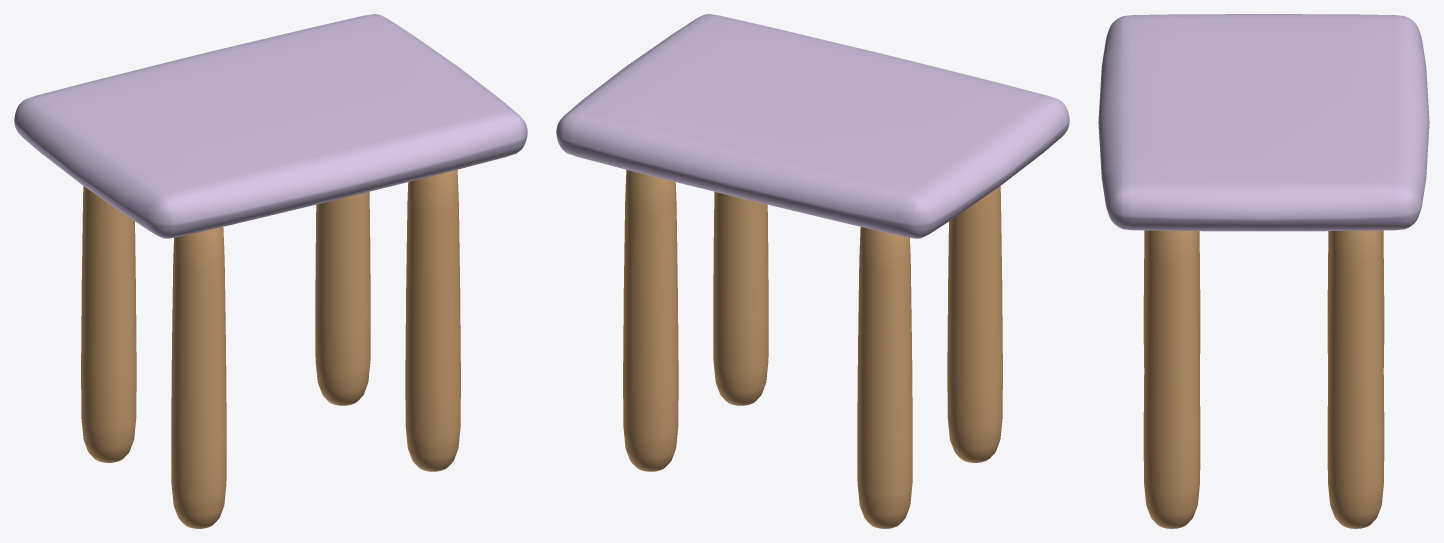
The model's file is side_table_c.glb.
3 renders of one model, left to right at view 1: azimuth 30°, elevation 25°; view 2: azimuth 150°, elevation 25°; view 3: azimuth 270°, elevation 25°, orthographic. The views are drawn at different scales.
Visible parts, largest first — view 1: body; view 2: body; view 3: body.
Boxes of the visible parts, x1=… form: body: x1=14, y1=14, x2=527, y2=528; body: x1=556, y1=14, x2=1069, y2=528; body: x1=1098, y1=14, x2=1429, y2=528.
Bounding box in the file's own units: 0.5 × 0.44 × 0.36.
